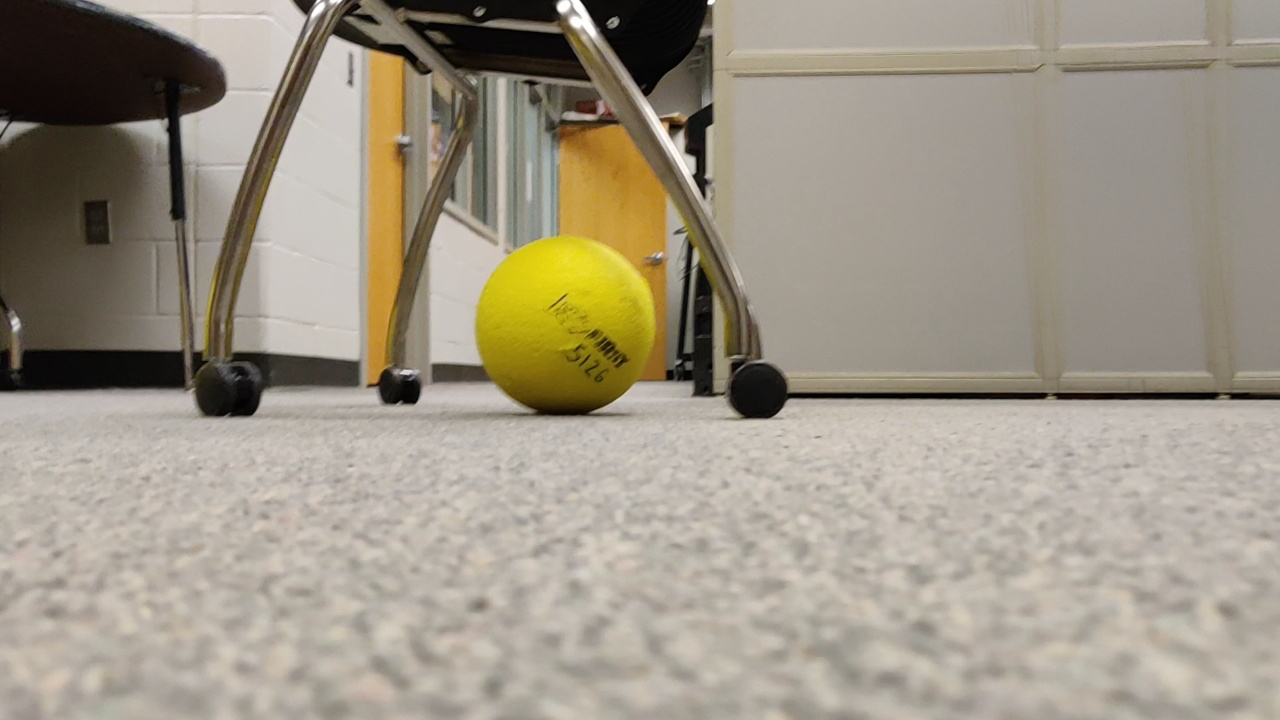Ball: (476, 231, 663, 429)
